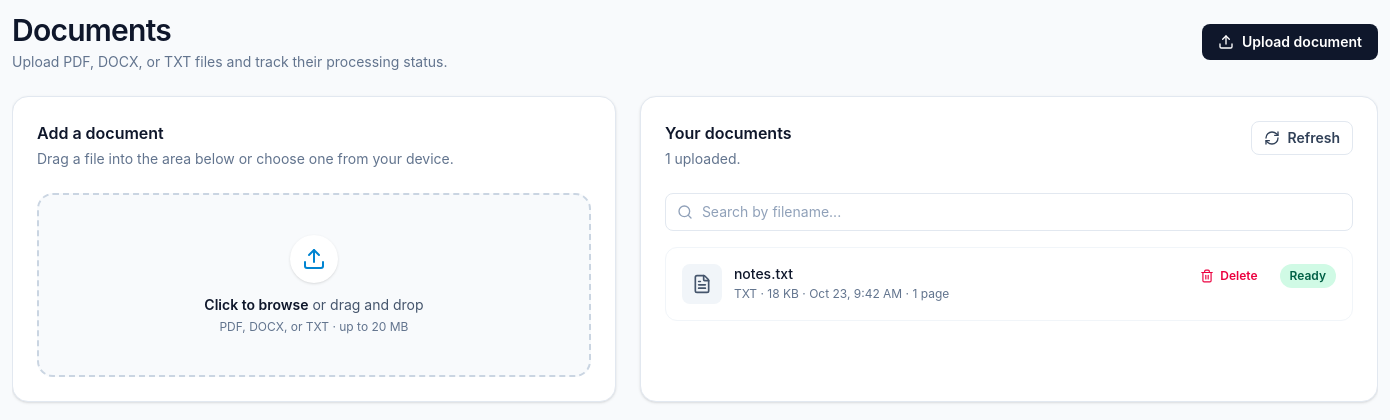
Test: DocumentsPage › filters documents by filename with a debounced search
The width and height of the screenshot is (1390, 420).
Expected: the link "notes.txt" is shown, [734,265,793,282]
Type "note" into the search field named "search documents by filename" at x=1009, y=212, box [665,193,1353,231]
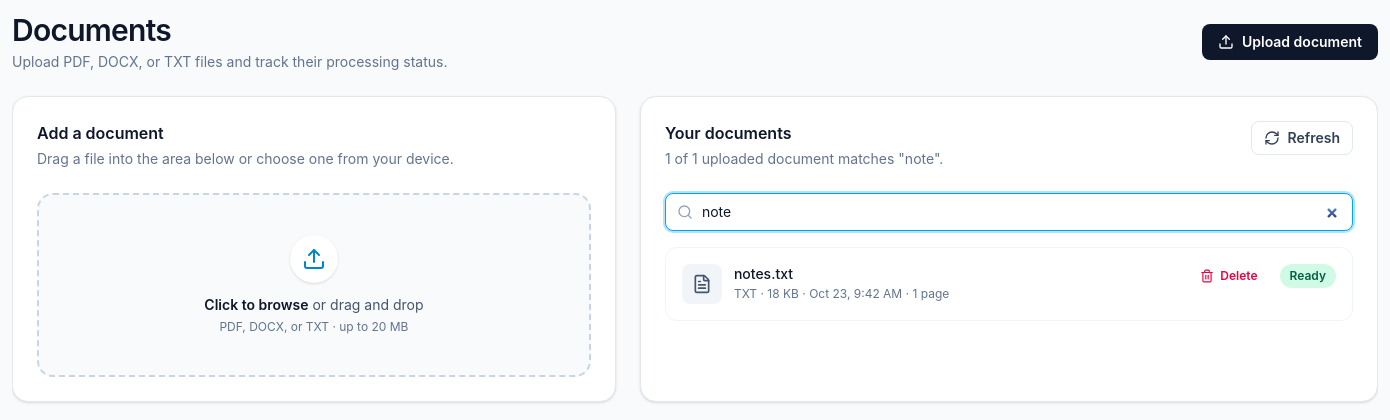
Expected: the text "1 of 1 uploaded document matches \"note\"." is shown, [665,149,943,169]
